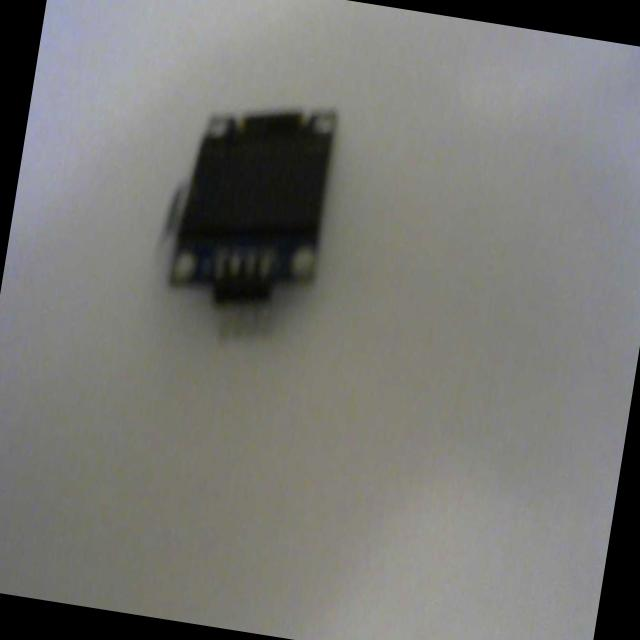oled: (147, 86, 356, 360)
